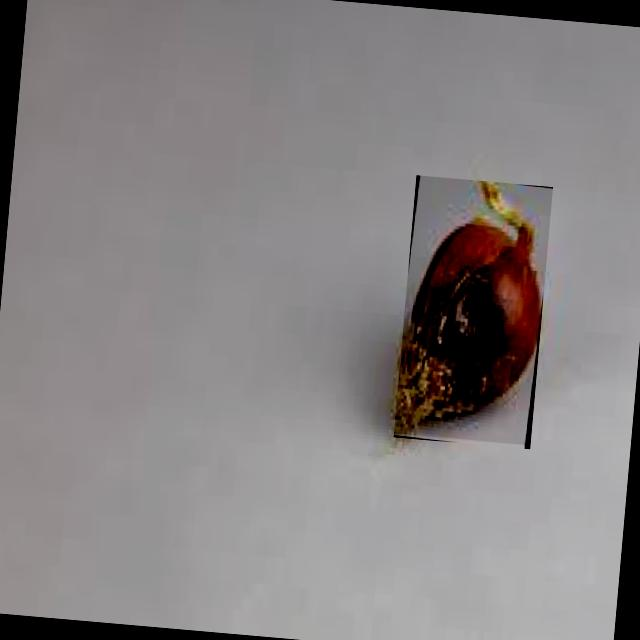rotten: (395, 182, 542, 433)
